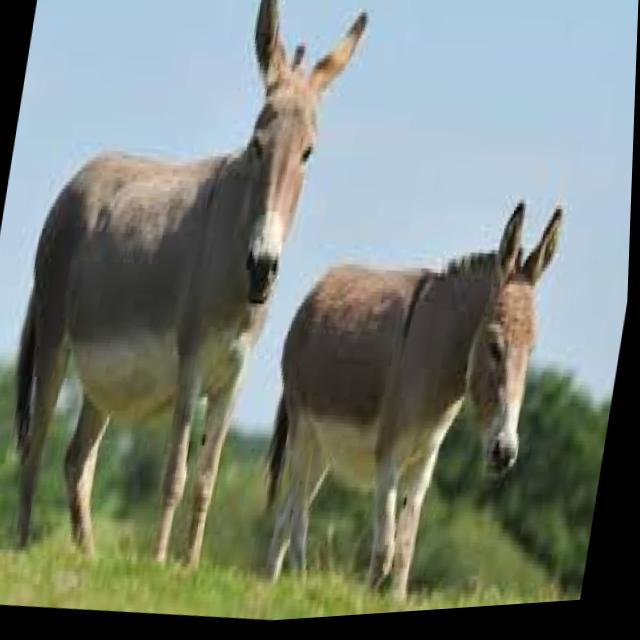Donkey: (0, 0, 367, 615), (246, 183, 572, 626)
